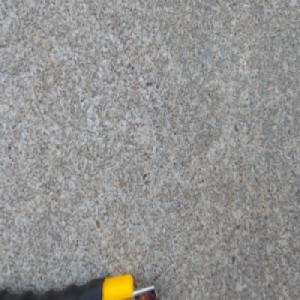Cutter: (0, 273, 162, 300)
